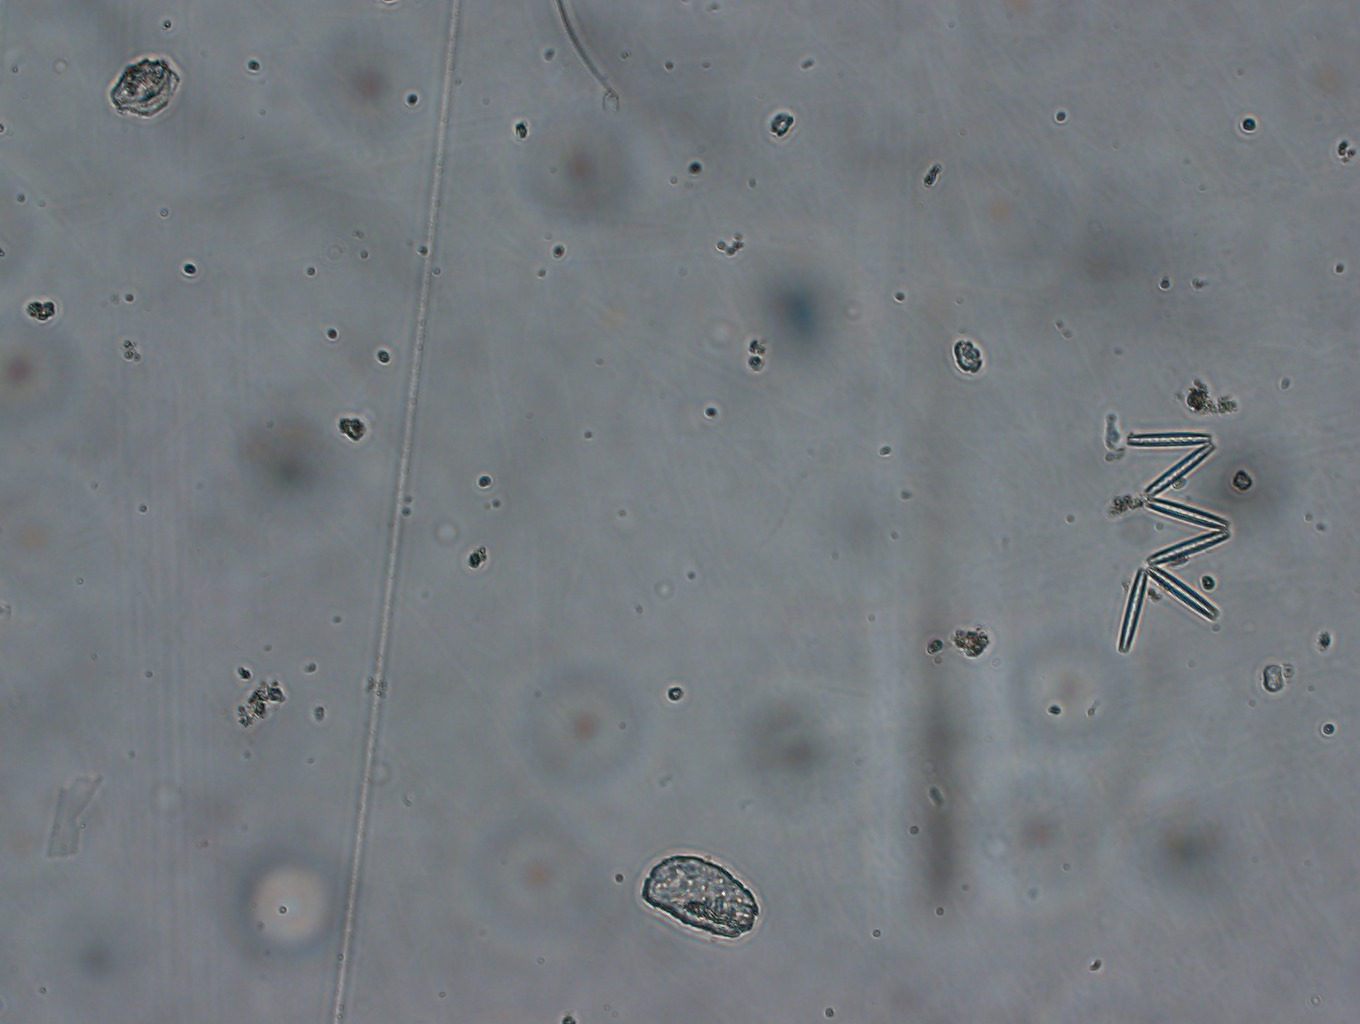thalassionema nitzschioides: (1110, 422, 1235, 665)
